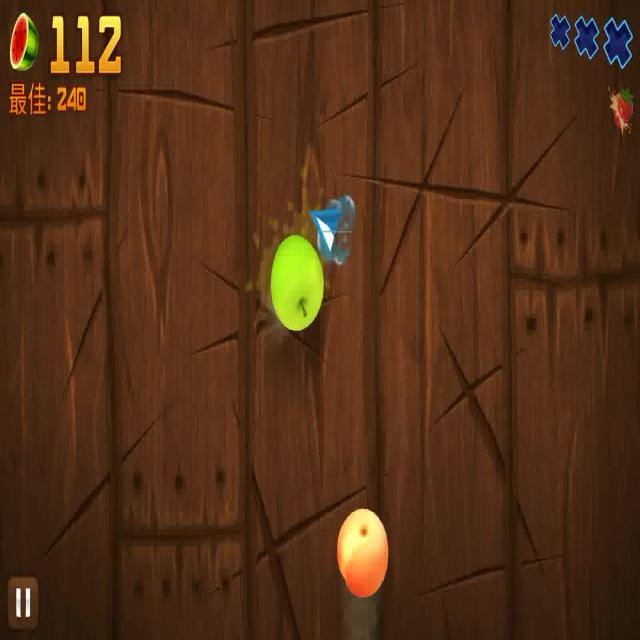fruit: (337, 501, 391, 597), (272, 233, 324, 332)
